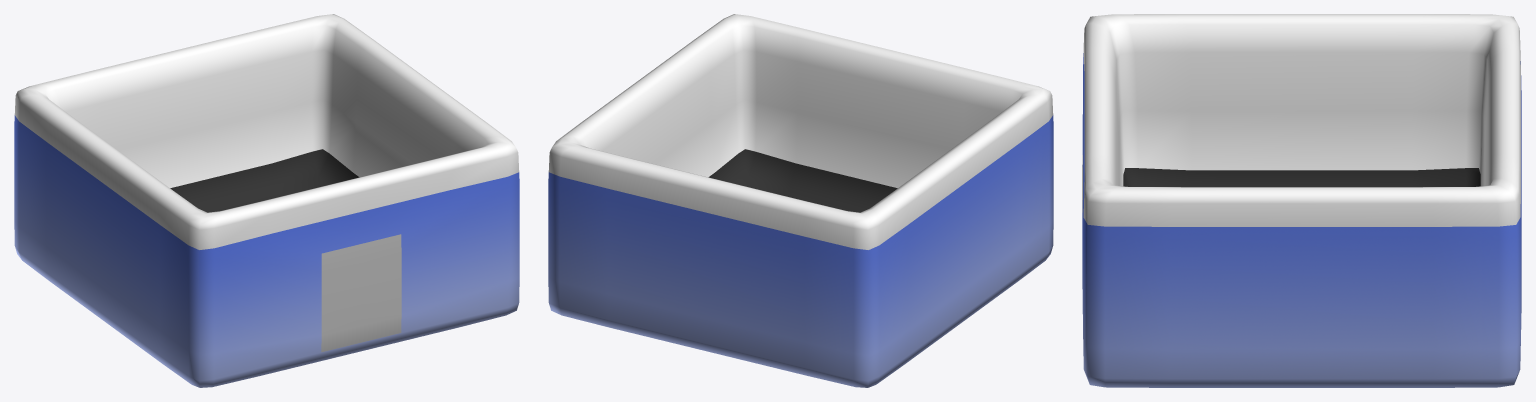
The model's file is Trashcan.fbx.
3 views of the same model, side by side, from view 1: azimuth 30°, elevation 25°; view 2: azimuth 150°, elevation 25°; view 3: azimuth 270°, elevation 25° (orthographic). The views are drawn at different scales.
Visible parts, largest first — view 1: Trashcan; view 2: Trashcan; view 3: Trashcan.
Part boxes in pixels (x1,y1,x2,y2): Trashcan: (14,14,519,387); Trashcan: (548,14,1053,387); Trashcan: (1082,14,1521,387).
Bounding box in the file's own units: 1 × 0.5 × 1.
